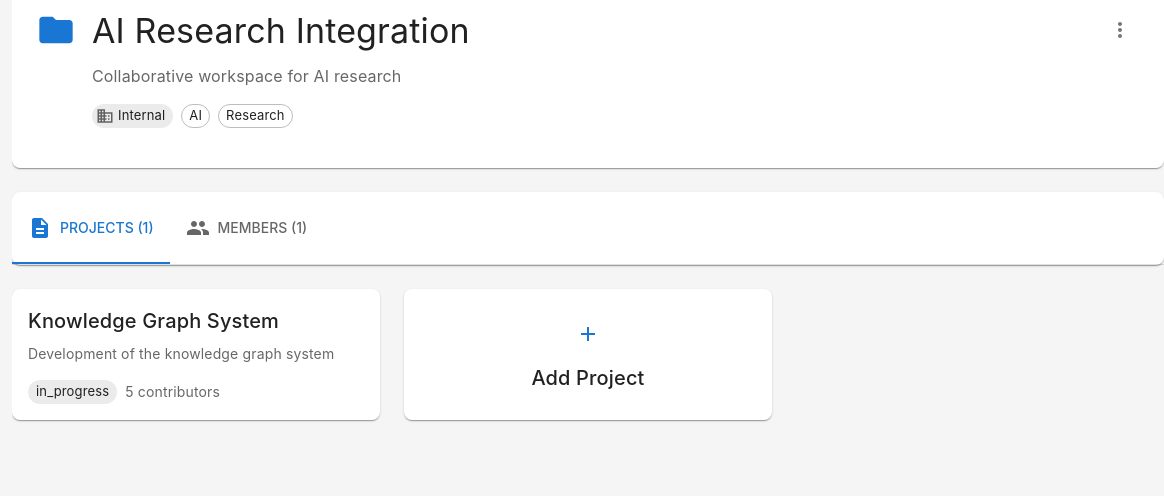
WorkspaceDetail Component › displays members tab content
Note: Click on the Members tab
Click the tab "Members (1)": (246, 228) [170,192,323,264]
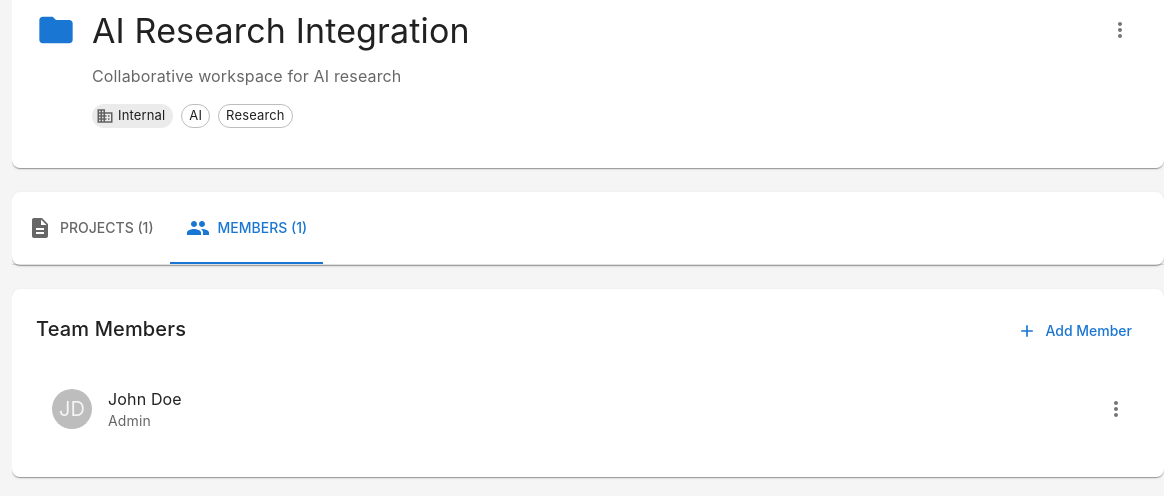
Check: the text "John Doe" is shown, box [108,389,182,409]
Check: the text "Admin" is shown, box [108,412,151,429]
